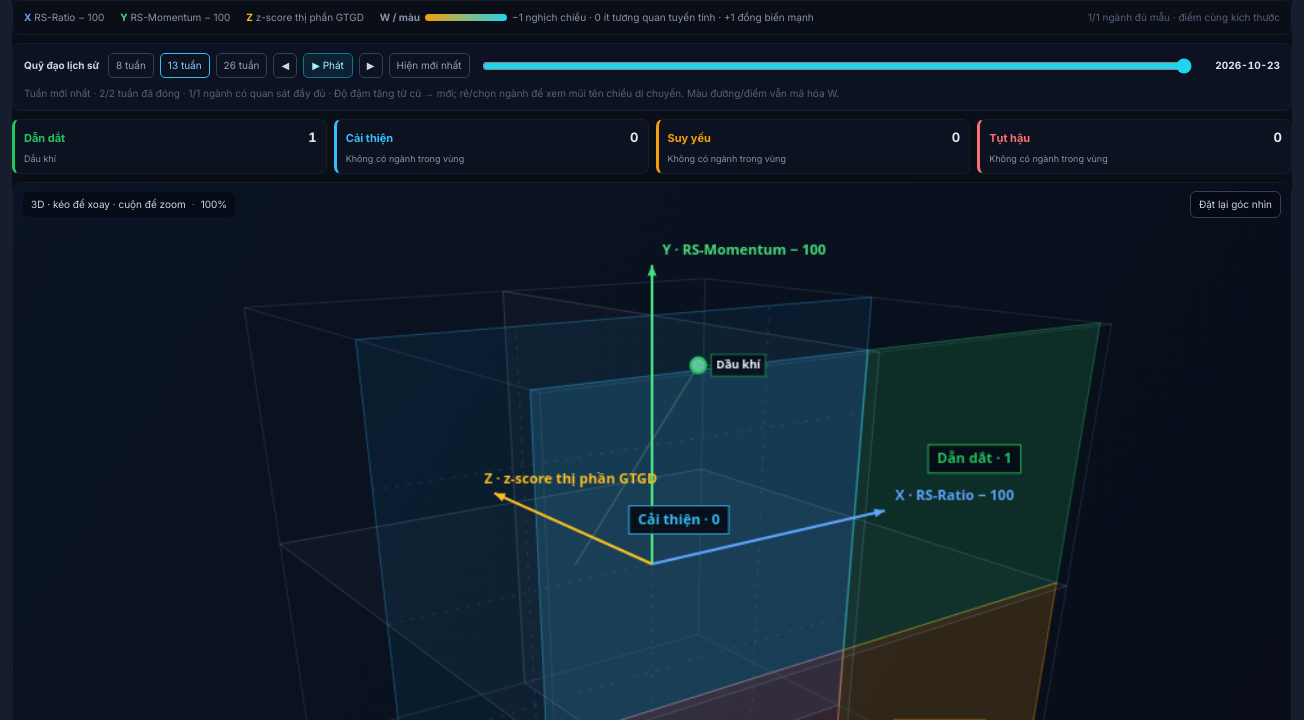
Scenario: Xoay vòng ngành ICB (L4–L5) › quỹ đạo 4D phát lại đúng tuần dữ liệu, đồng bộ chi tiết và bảng theo thanh thời gian
Check: the text "2026-10-23" is shown, box [1215,59,1280,71]
Click the button named "Lùi một tuần" at (285, 66), box [273,53,297,78]
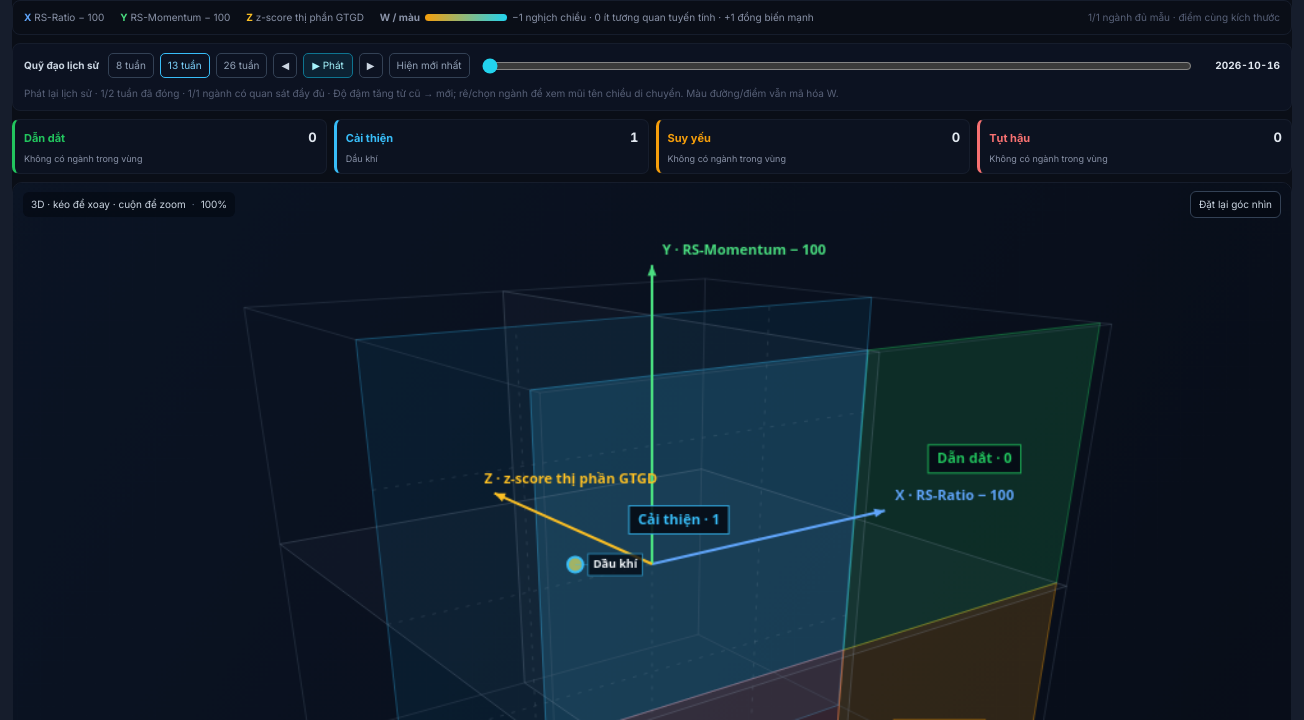
Check: the text "2026-10-16" is shown, box [1215,59,1280,71]
